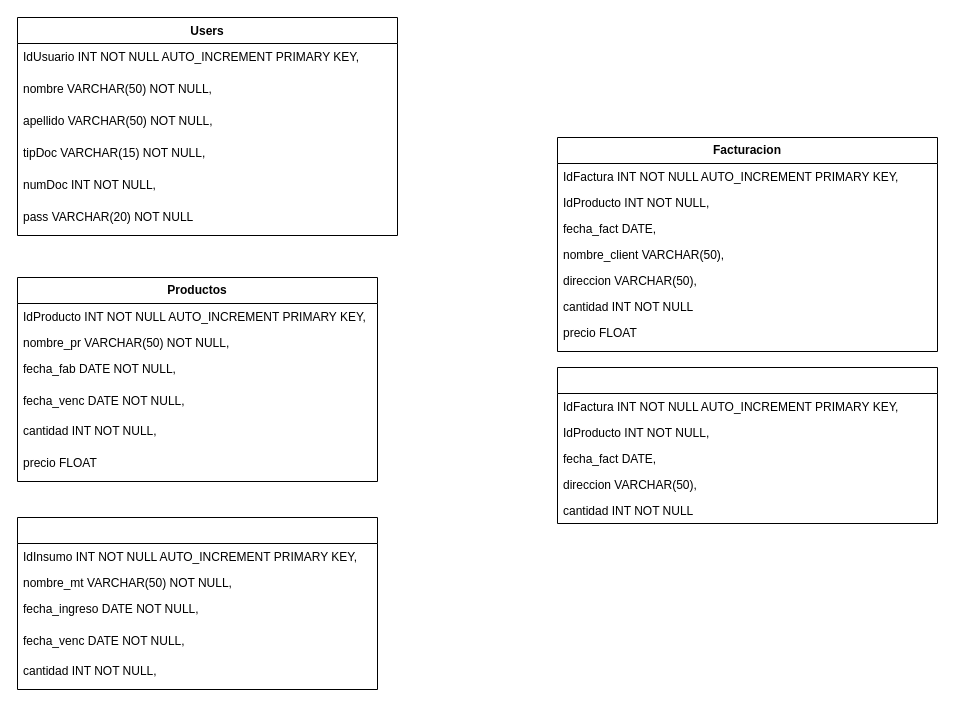
This 955x710 diagram has some shape labels left out. Here are the shapes that lost their labels. From the top down, the box of each, then its label:
(556, 366, 938, 524): Agendamiento
(16, 516, 378, 690): Inventario_MatPrim
